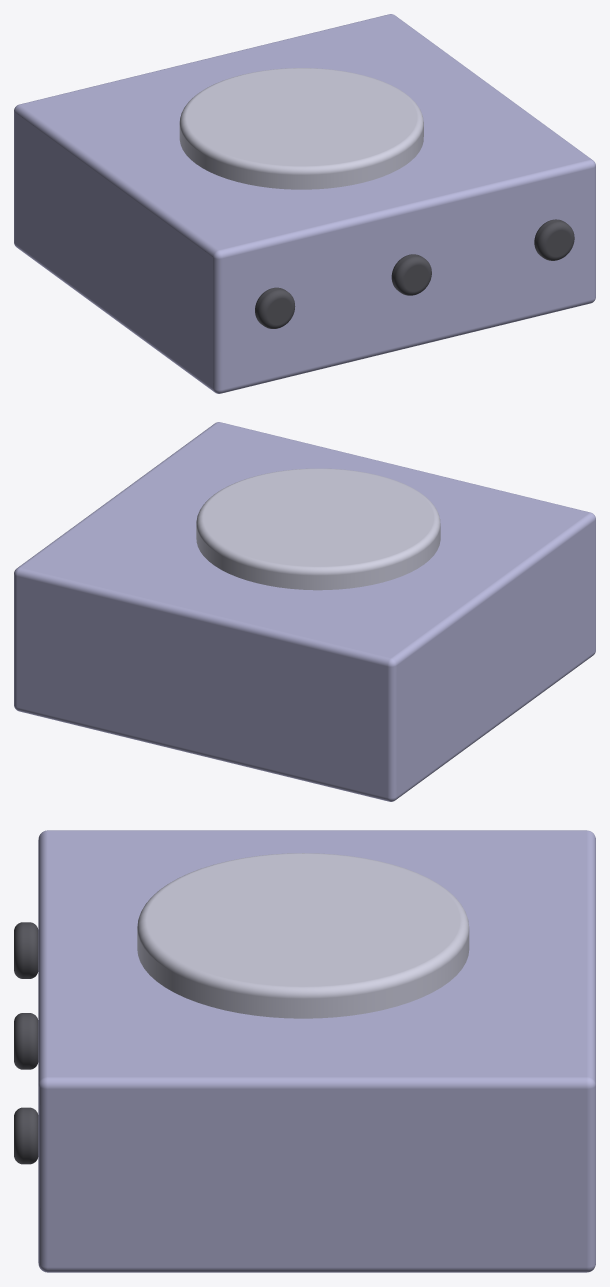
The model's file is shoes-platform.glb.
The picture shows the model from 3 angles, top to bottom: view 1: azimuth 30°, elevation 25°; view 2: azimuth 150°, elevation 25°; view 3: azimuth 270°, elevation 25°; orthographic projection. The views are drawn at different scales.
Visible parts, largest first — view 1: Cube, Cylinder 4, Cylinder 3, Cylinder 2, Cylinder; view 2: Cube, Cylinder 4; view 3: Cube, Cylinder 4, Cylinder 3, Cylinder 2, Cylinder.
Part boxes in pixels (bbox=[...]): Cube: bbox=[14, 14, 595, 393]; Cylinder 4: bbox=[179, 68, 423, 189]; Cylinder 3: bbox=[534, 219, 574, 260]; Cylinder 2: bbox=[391, 254, 431, 295]; Cylinder: bbox=[255, 287, 295, 328]; Cube: bbox=[14, 422, 595, 801]; Cylinder 4: bbox=[196, 468, 440, 590]; Cube: bbox=[38, 830, 595, 1272]; Cylinder 4: bbox=[137, 853, 469, 1018]; Cylinder 3: bbox=[14, 1107, 38, 1164]; Cylinder 2: bbox=[14, 1013, 38, 1069]; Cylinder: bbox=[14, 922, 38, 978].
Bounding box in the file's own units: 5.16 × 2.42 × 5.01.
